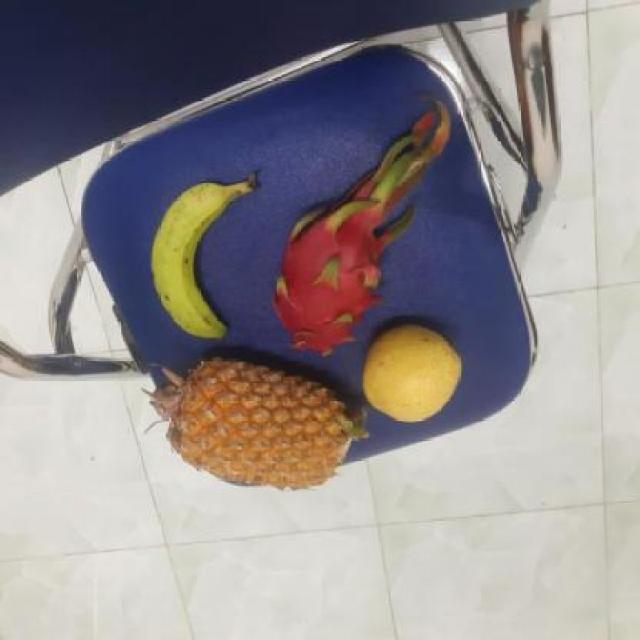banana: (151, 181, 252, 341)
dragon fruit: (272, 208, 396, 355)
pear: (359, 322, 467, 424)
pineapple: (162, 353, 362, 496)
